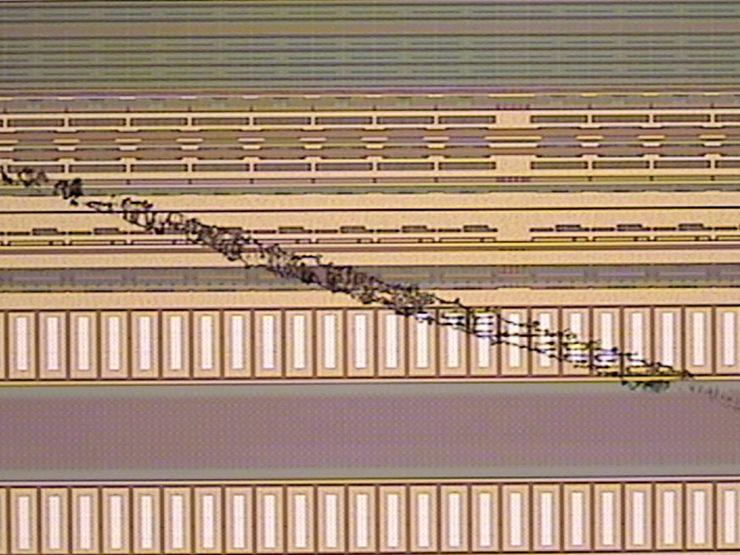SCRATCH: (1, 159, 740, 413)
